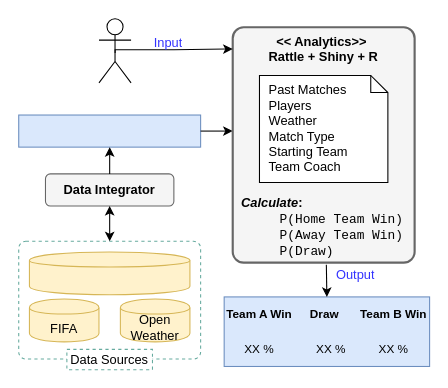
Image size: 448x388. Some labels were removed from this diagram. Here are the shapes that lost their labels. From the top down, the centre of each, then its label:
point 114,50: User
point 109,130: PostgreSQL
point 109,273: Free Open Public Domain Football Data
